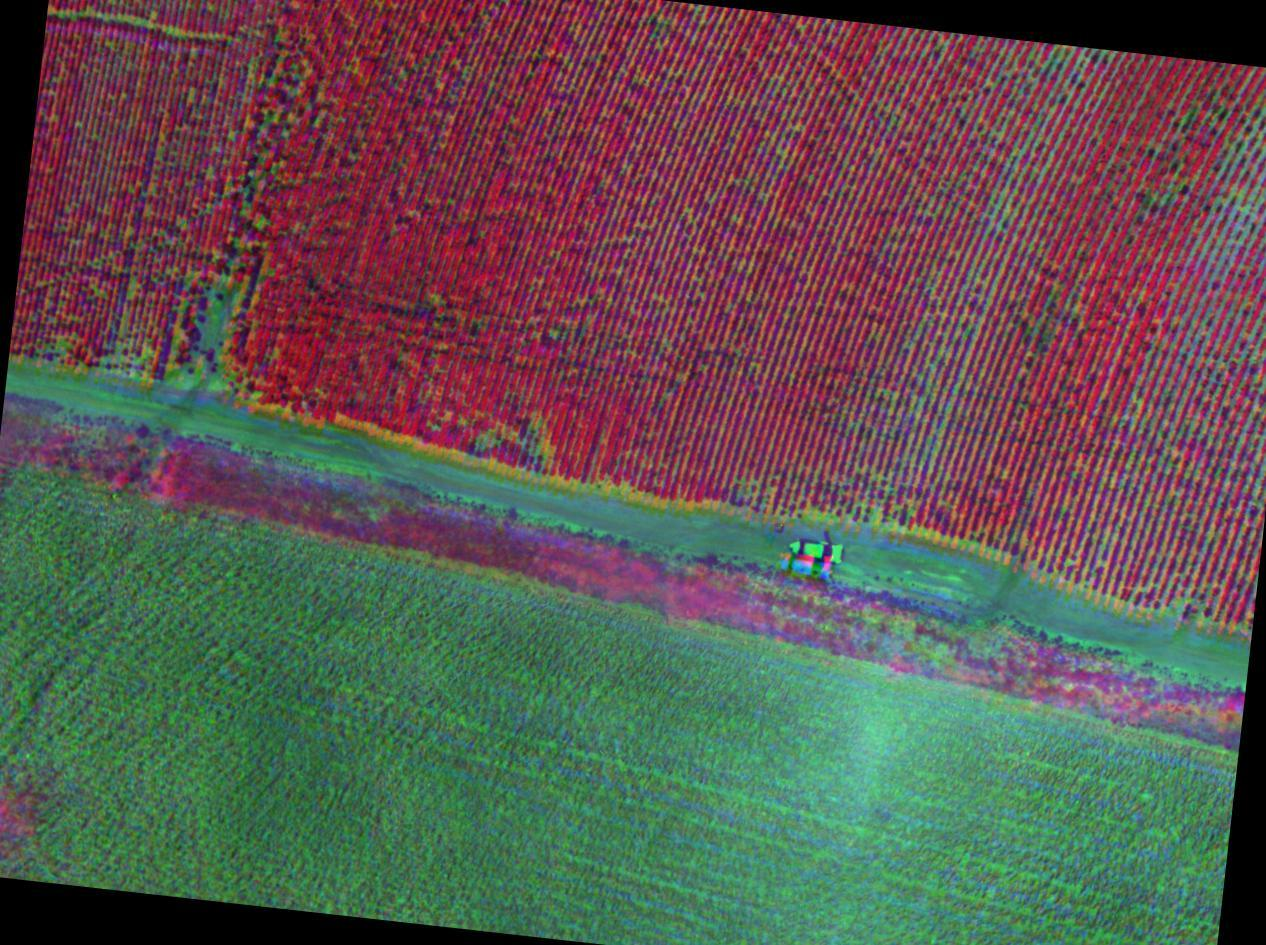dc: (48, 1, 234, 50), (799, 481, 907, 530), (41, 337, 145, 385), (168, 322, 234, 390), (1217, 189, 1266, 263), (183, 264, 235, 324), (1140, 572, 1199, 617)
